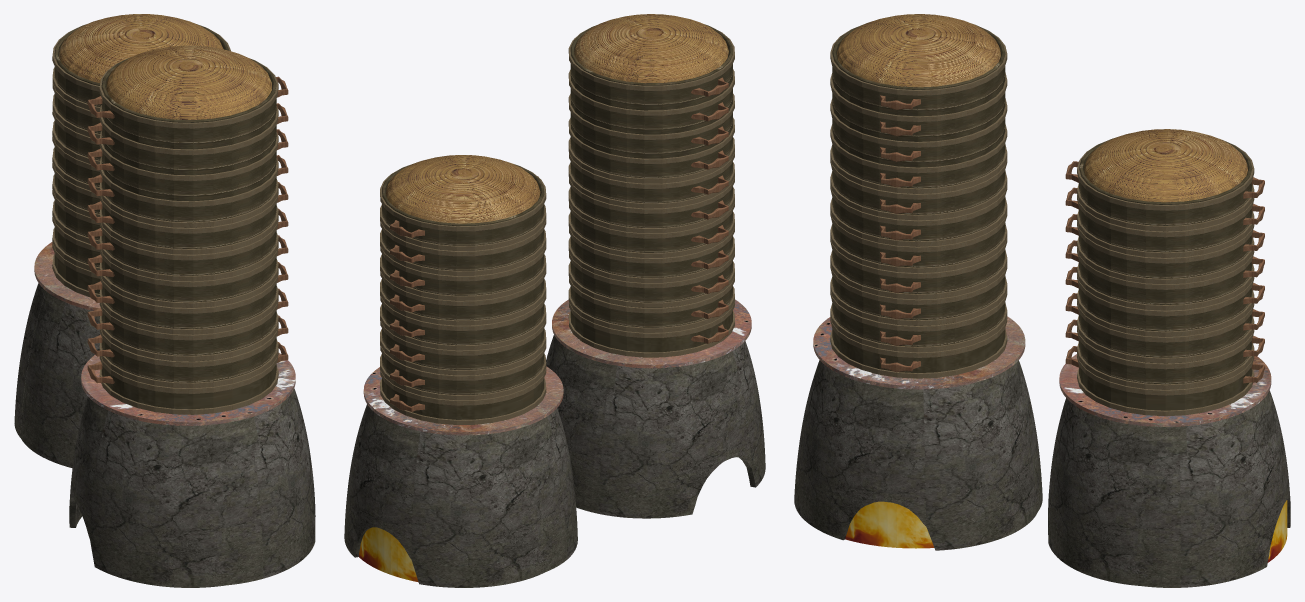
The picture shows the model from 3 angles, left to right: view 1: azimuth 30°, elevation 25°; view 2: azimuth 150°, elevation 25°; view 3: azimuth 270°, elevation 25°; orthographic projection. The views are drawn at different scales.
Parts seen in each view (by area): view 1: qingmo_obj_689 [3050132], qingmo_obj_247 [5145334], qingmo_obj_731 [3050258], qingmo_obj_203 [5145202], qingmo_obj_744 [3050297], qingmo_obj_741 [3050288], qingmo_obj_688 [3050129], qingmo_obj_736 [3050273], qingmo_obj_681 [3050108], qingmo_obj_690 [3050135], qingmo_obj_683 [3050114], qingmo_obj_714 [3050207] (+33 smaller); view 2: qingmo_obj_247 [5145334], qingmo_obj_689 [3050132], qingmo_obj_731 [3050258], qingmo_obj_203 [5145202], qingmo_obj_744 [3050297], qingmo_obj_688 [3050129], qingmo_obj_245 [5145328], qingmo_obj_741 [3050288], qingmo_obj_196 [5145181], qingmo_obj_736 [3050273], qingmo_obj_690 [3050135], qingmo_obj_205 [5145208] (+49 smaller); view 3: qingmo_obj_247 [5145334], qingmo_obj_689 [3050132], qingmo_obj_731 [3050258], qingmo_obj_203 [5145202], qingmo_obj_744 [3050297], qingmo_obj_688 [3050129], qingmo_obj_196 [5145181], qingmo_obj_245 [5145328], qingmo_obj_741 [3050288], qingmo_obj_736 [3050273], qingmo_obj_746 [5145356], qingmo_obj_205 [5145208] (+50 smaller).
Boxes of the visible parts, x1=… form: qingmo_obj_689 [3050132]: x1=69, y1=388, x2=315, y2=587; qingmo_obj_247 [5145334]: x1=14, y1=283, x2=100, y2=468; qingmo_obj_731 [3050258]: x1=106, y1=45, x2=271, y2=119; qingmo_obj_203 [5145202]: x1=59, y1=14, x2=223, y2=82; qingmo_obj_744 [3050297]: x1=101, y1=57, x2=276, y2=148; qingmo_obj_741 [3050288]: x1=101, y1=110, x2=276, y2=175; qingmo_obj_688 [3050129]: x1=81, y1=353, x2=295, y2=425; qingmo_obj_736 [3050273]: x1=101, y1=136, x2=276, y2=200; qingmo_obj_681 [3050108]: x1=101, y1=162, x2=276, y2=222; qingmo_obj_690 [3050135]: x1=101, y1=337, x2=276, y2=382; qingmo_obj_683 [3050114]: x1=101, y1=364, x2=276, y2=409; qingmo_obj_714 [3050207]: x1=101, y1=230, x2=276, y2=275; qingmo_obj_247 [5145334]: x1=344, y1=404, x2=577, y2=587; qingmo_obj_689 [3050132]: x1=546, y1=335, x2=765, y2=518; qingmo_obj_731 [3050258]: x1=574, y1=14, x2=728, y2=83; qingmo_obj_203 [5145202]: x1=385, y1=155, x2=540, y2=223; qingmo_obj_744 [3050297]: x1=570, y1=24, x2=732, y2=109; qingmo_obj_688 [3050129]: x1=552, y1=299, x2=751, y2=368; qingmo_obj_245 [5145328]: x1=363, y1=366, x2=563, y2=435; qingmo_obj_741 [3050288]: x1=570, y1=75, x2=732, y2=134; qingmo_obj_196 [5145181]: x1=382, y1=164, x2=544, y2=245; qingmo_obj_736 [3050273]: x1=570, y1=103, x2=732, y2=158; qingmo_obj_690 [3050135]: x1=570, y1=286, x2=732, y2=327; qingmo_obj_205 [5145208]: x1=382, y1=353, x2=544, y2=394; qingmo_obj_247 [5145334]: x1=1048, y1=390, x2=1290, y2=587; qingmo_obj_689 [3050132]: x1=794, y1=360, x2=1042, y2=550; qingmo_obj_731 [3050258]: x1=837, y1=14, x2=1000, y2=87; qingmo_obj_203 [5145202]: x1=1084, y1=129, x2=1247, y2=202; qingmo_obj_744 [3050297]: x1=832, y1=23, x2=1005, y2=115; qingmo_obj_688 [3050129]: x1=813, y1=316, x2=1025, y2=389; qingmo_obj_196 [5145181]: x1=1079, y1=138, x2=1252, y2=225; qingmo_obj_245 [5145328]: x1=1059, y1=354, x2=1271, y2=426; qingmo_obj_741 [3050288]: x1=832, y1=80, x2=1005, y2=141; qingmo_obj_736 [3050273]: x1=832, y1=113, x2=1005, y2=166; qingmo_obj_746 [5145356]: x1=845, y1=501, x2=934, y2=548; qingmo_obj_205 [5145208]: x1=1079, y1=340, x2=1252, y2=384.
Bounding box in the file's own units: 13.21 × 19.81 × 20.45.
8 materials, 8 textured.
